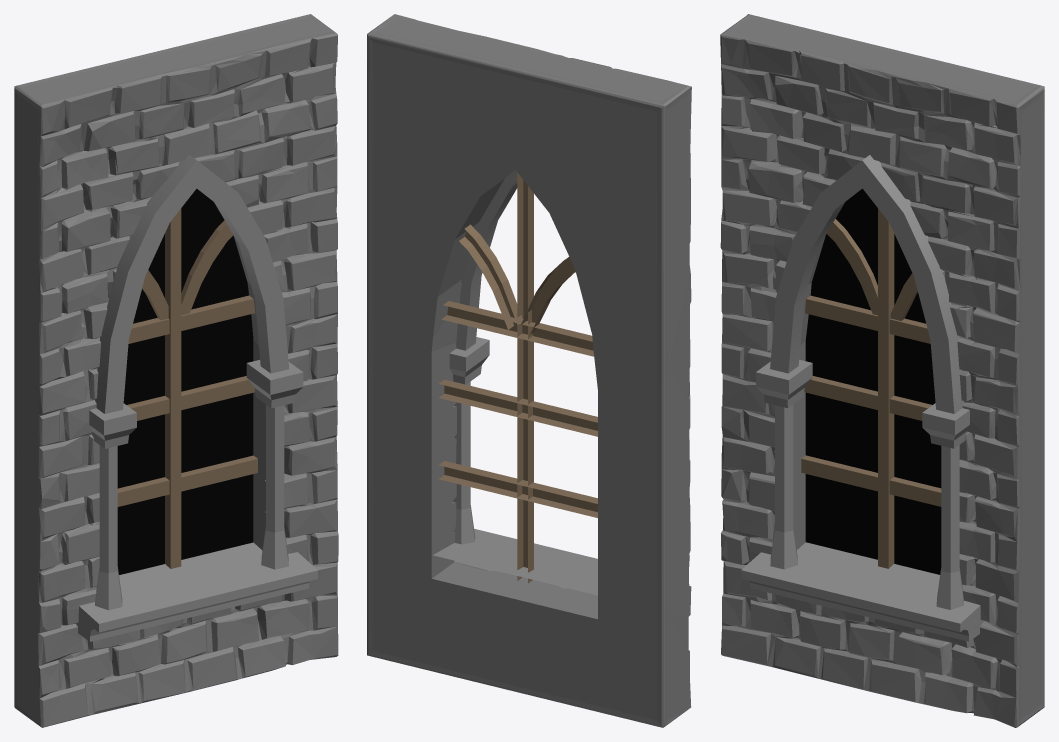
The model's file is modular_wall_3x6m_window_a.FBX.
The picture shows the model from 3 angles, left to right: view 1: azimuth 30°, elevation 25°; view 2: azimuth 150°, elevation 25°; view 3: azimuth 330°, elevation 25°; orthographic projection.
Visible parts, largest first — view 1: modular_wall_3x6m_window_a; view 2: modular_wall_3x6m_window_a; view 3: modular_wall_3x6m_window_a.
Boxes of the visible parts, x1=… form: modular_wall_3x6m_window_a: x1=14, y1=14, x2=338, y2=727; modular_wall_3x6m_window_a: x1=367, y1=14, x2=691, y2=727; modular_wall_3x6m_window_a: x1=720, y1=14, x2=1044, y2=727.
Bounding box in the file's own units: 3.01 × 6.01 × 0.8121.
